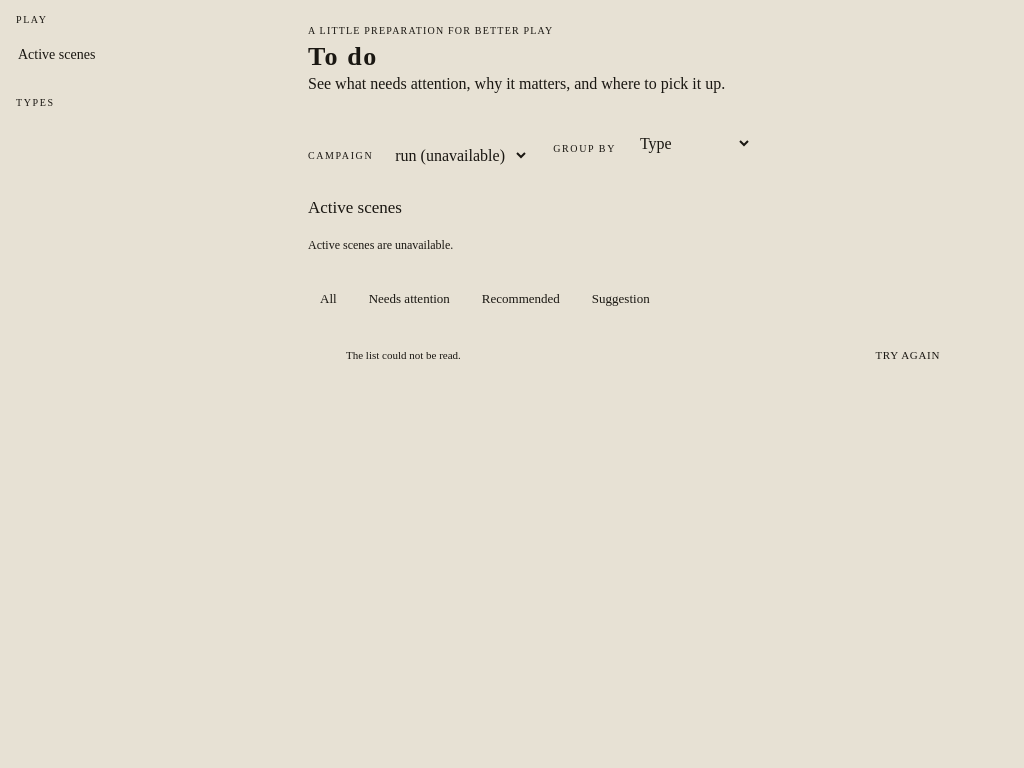
a failed read drops the remembered list, and Try again re-reads
The image size is (1024, 768).
Expected: the text "The list could not be read. Try again" is shown, [346, 343, 952, 367]
Expected: the text "3 cast members without a sheet" is not shown
Step 1. Click the button "Try again" → point(908, 355), box [864, 343, 952, 367]
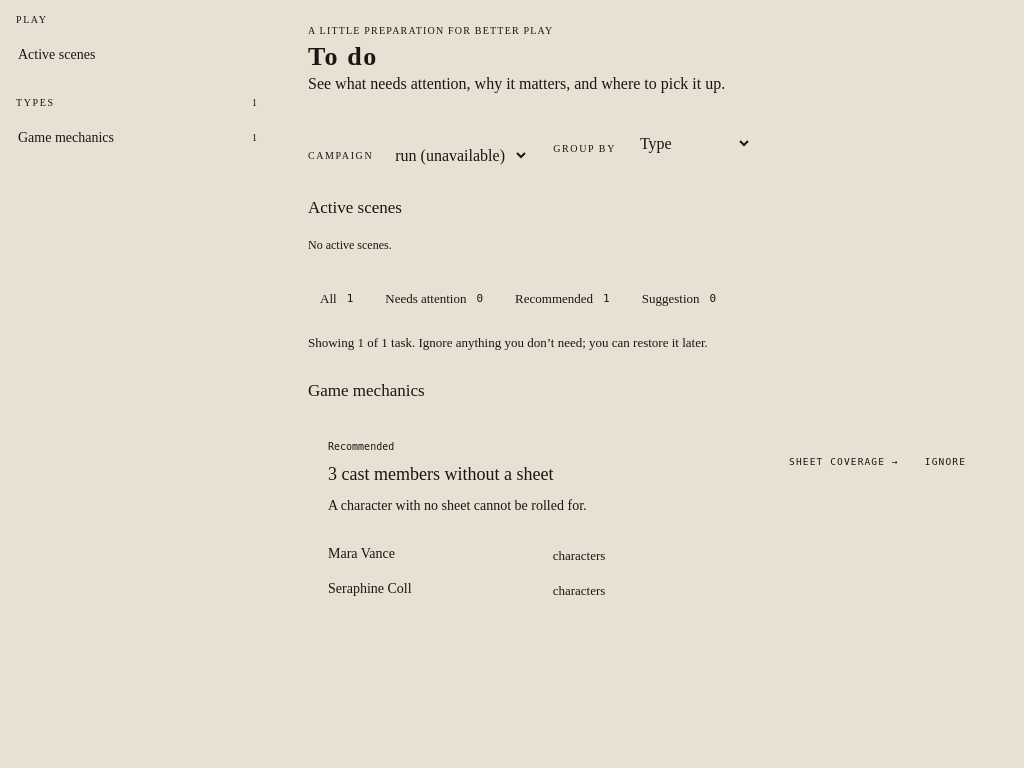
Now the heading "3 cast members without a sheet" is shown, box [328, 464, 554, 484]
Now the text "could not be read" is gone
